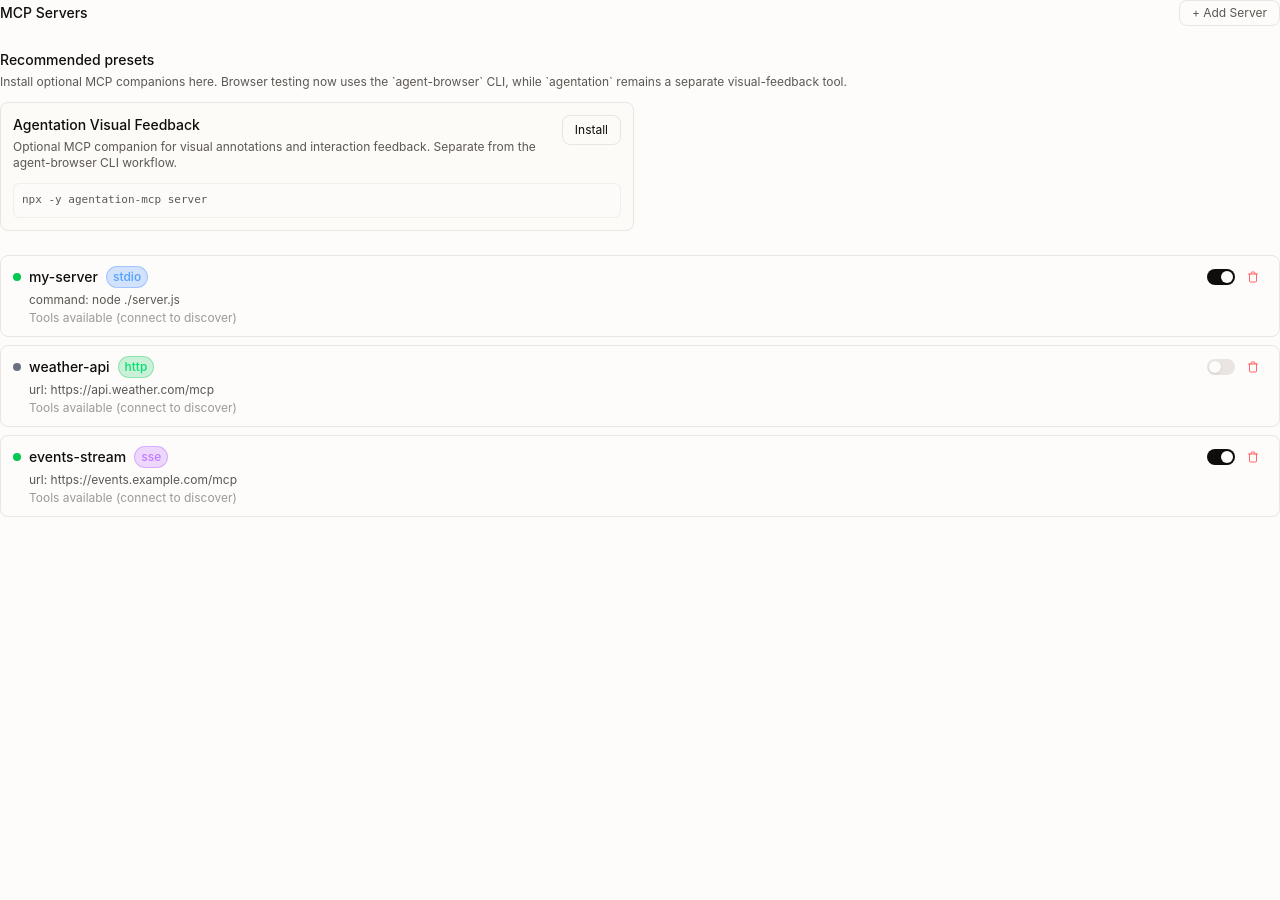
Scenario: McpPanel › add form shows correct fields for stdio type
The width and height of the screenshot is (1280, 900).
Expected: the element with test id "mcp-panel" is shown, top-left (0, 0), bottom-right (1279, 516)
Click the button with test id "mcp-add-btn". click: coordinates (1229, 13)
box: top-left (1179, 0), bottom-right (1279, 26)
(page scrolled)
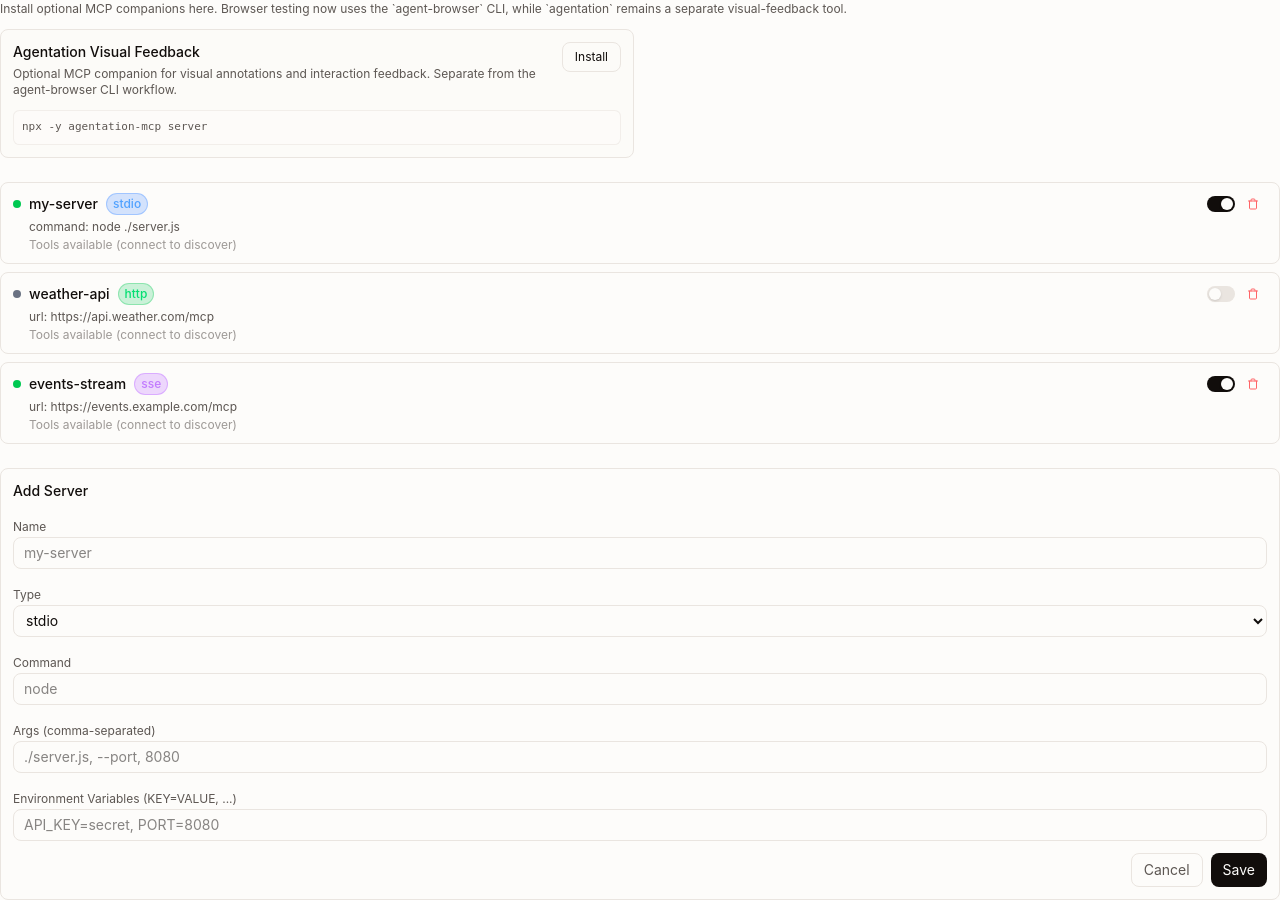
Result: the field with test id "mcp-add-command-input" is shown at top-left (13, 672), bottom-right (1267, 704)
Result: the field with test id "mcp-add-args-input" is shown at top-left (13, 740), bottom-right (1267, 772)
Result: the field with test id "mcp-add-env-input" is shown at top-left (13, 808), bottom-right (1267, 840)
